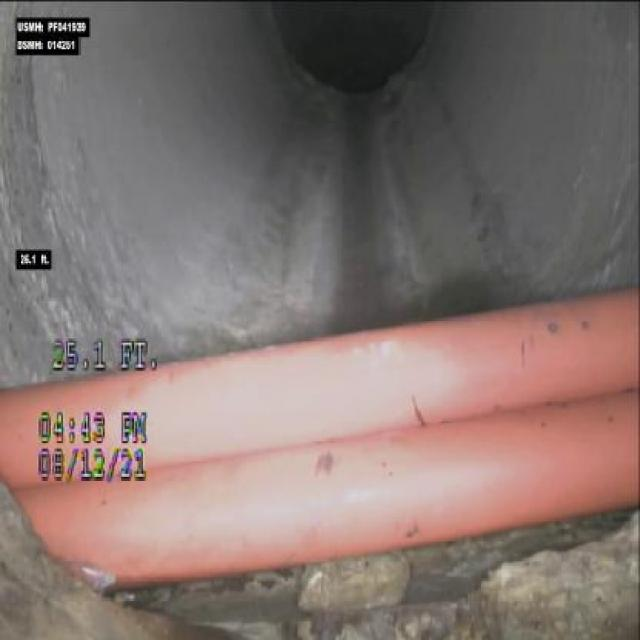Utility intrusion: (0, 280, 638, 600)
